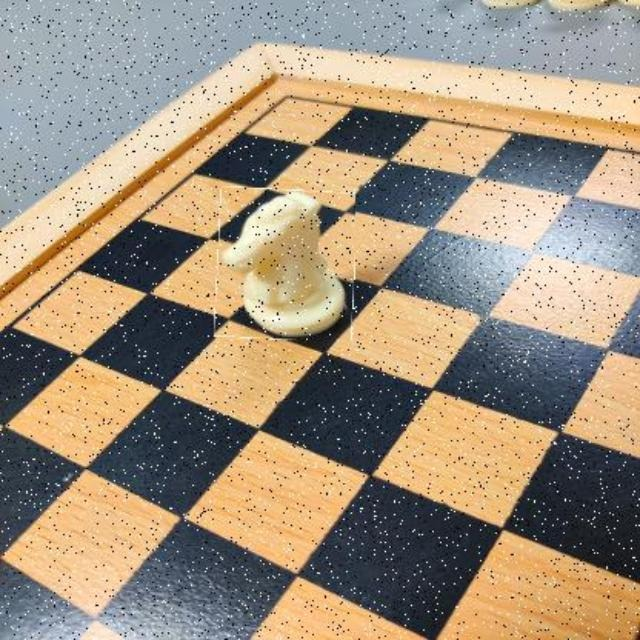white-knight: (215, 188, 355, 340)
